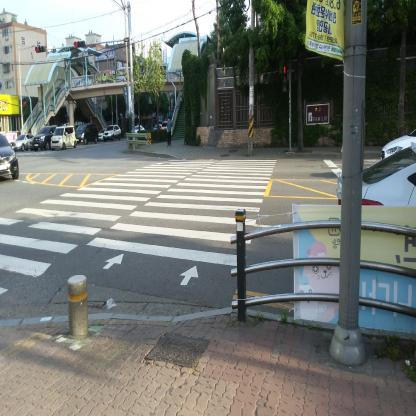Red: (282, 64, 287, 91)
